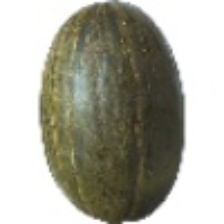honeydew: (39, 0, 188, 198)
